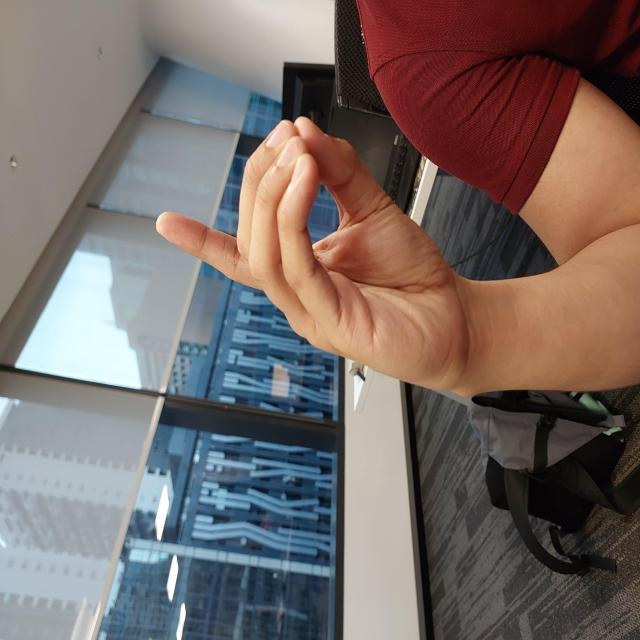D: (245, 155, 525, 468)
